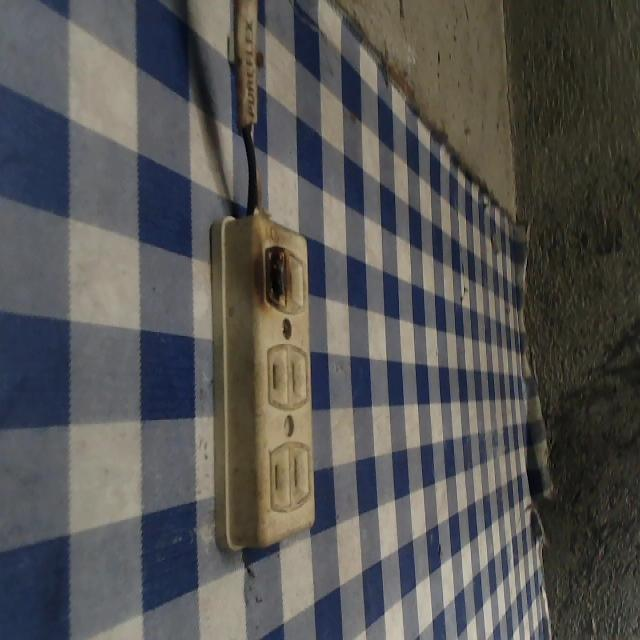-: (257, 232, 294, 317)
